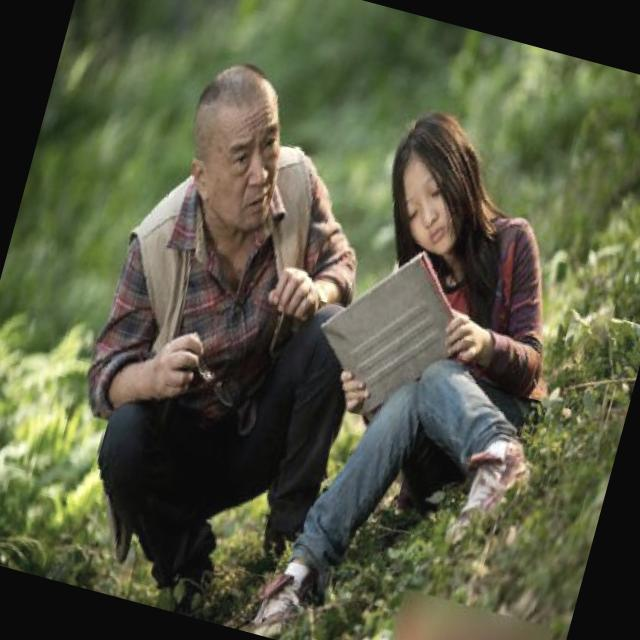Person: (0, 0, 426, 619), (257, 59, 611, 640)
